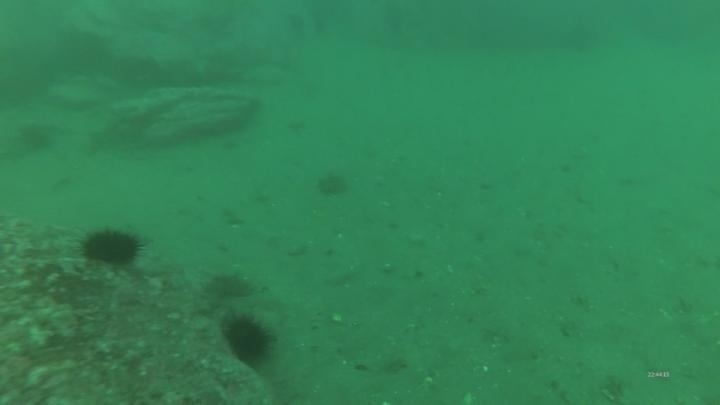echinus: (221, 311, 276, 368), (78, 223, 146, 269), (202, 270, 255, 302), (16, 120, 56, 156), (314, 169, 351, 199)
